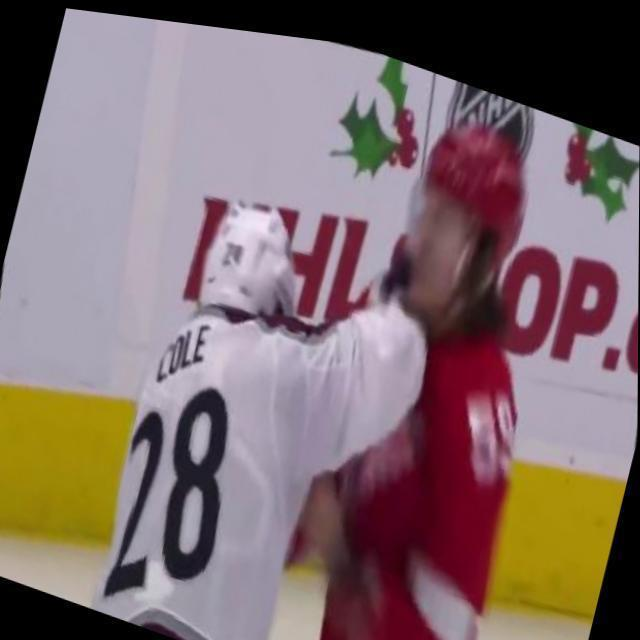fight: (39, 4, 617, 640)
